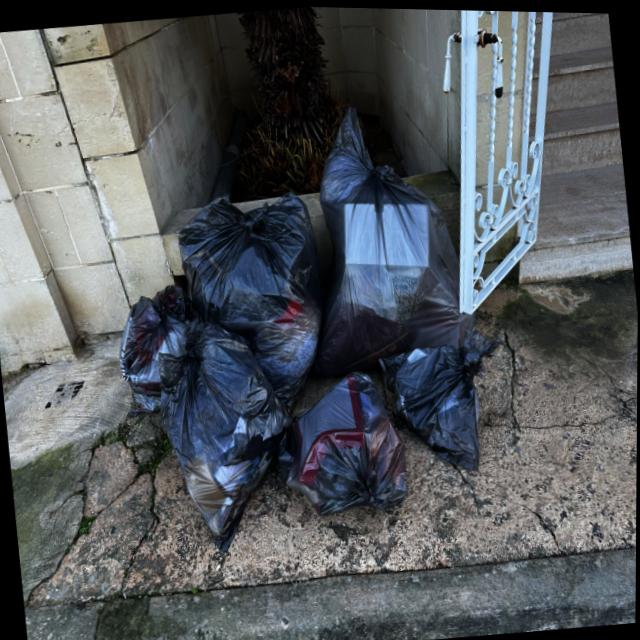Mixed Waste -Black Bags-: (120, 105, 502, 552)
